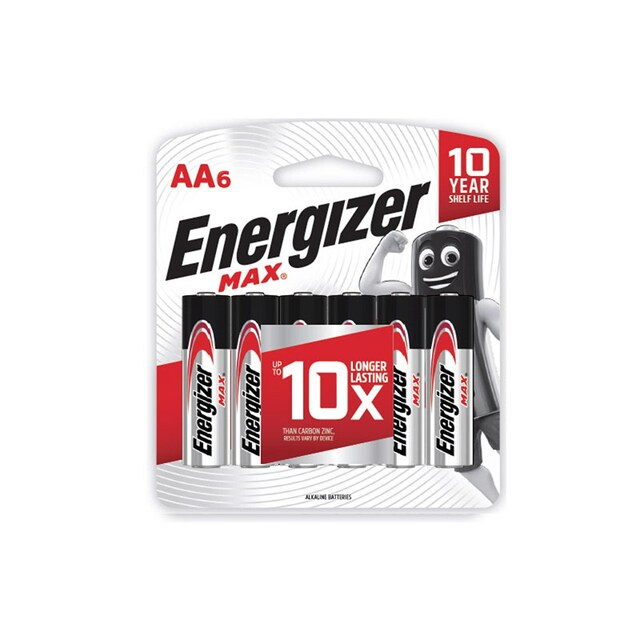Battery: (421, 291, 476, 469), (180, 291, 230, 469)
